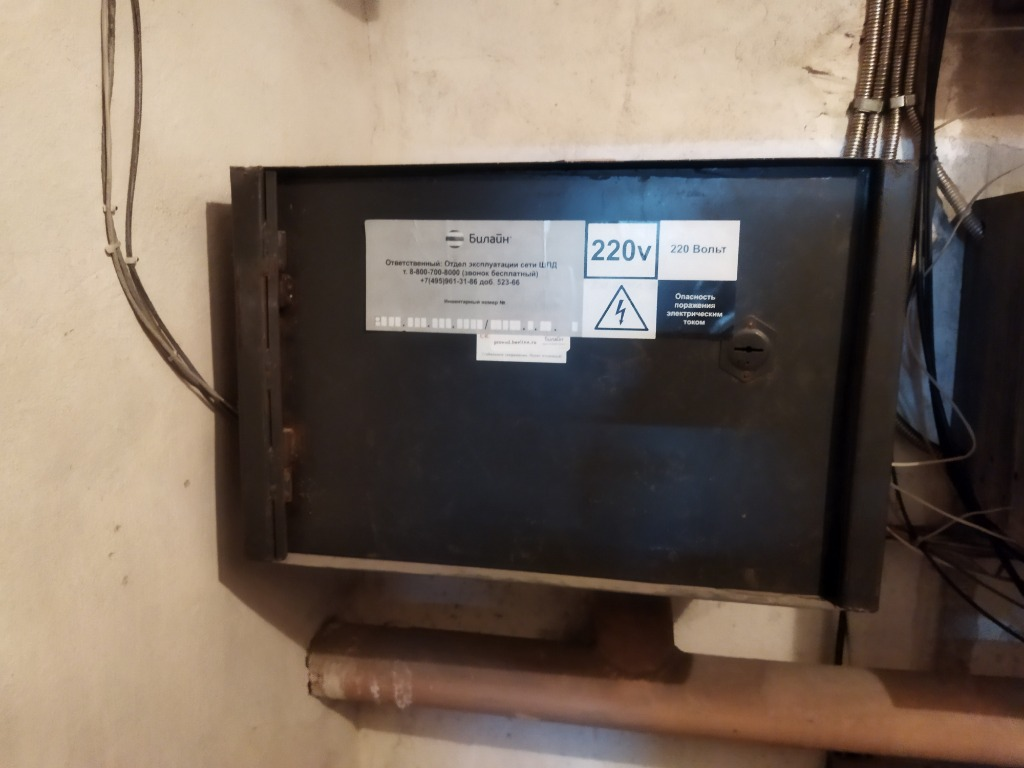e2-6u: (221, 155, 926, 620)
